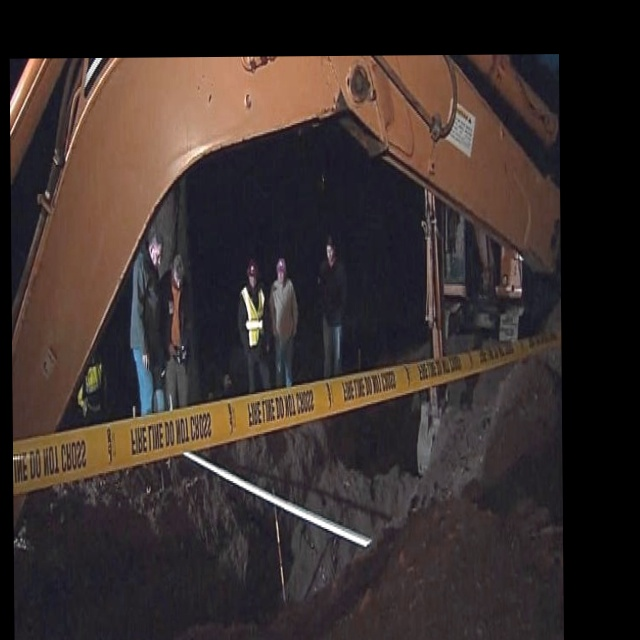Con_Chaleco: (242, 286, 266, 347)
